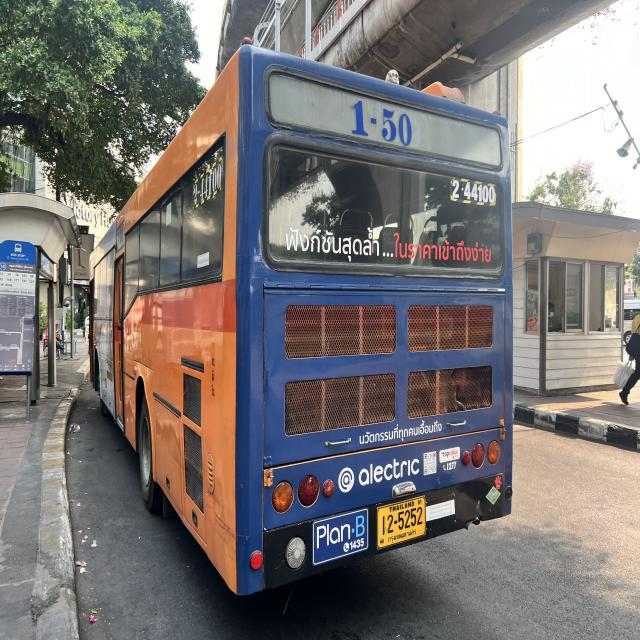BMTA-bus: (92, 45, 514, 601)
Bus-Line-Number: (344, 91, 424, 160)
